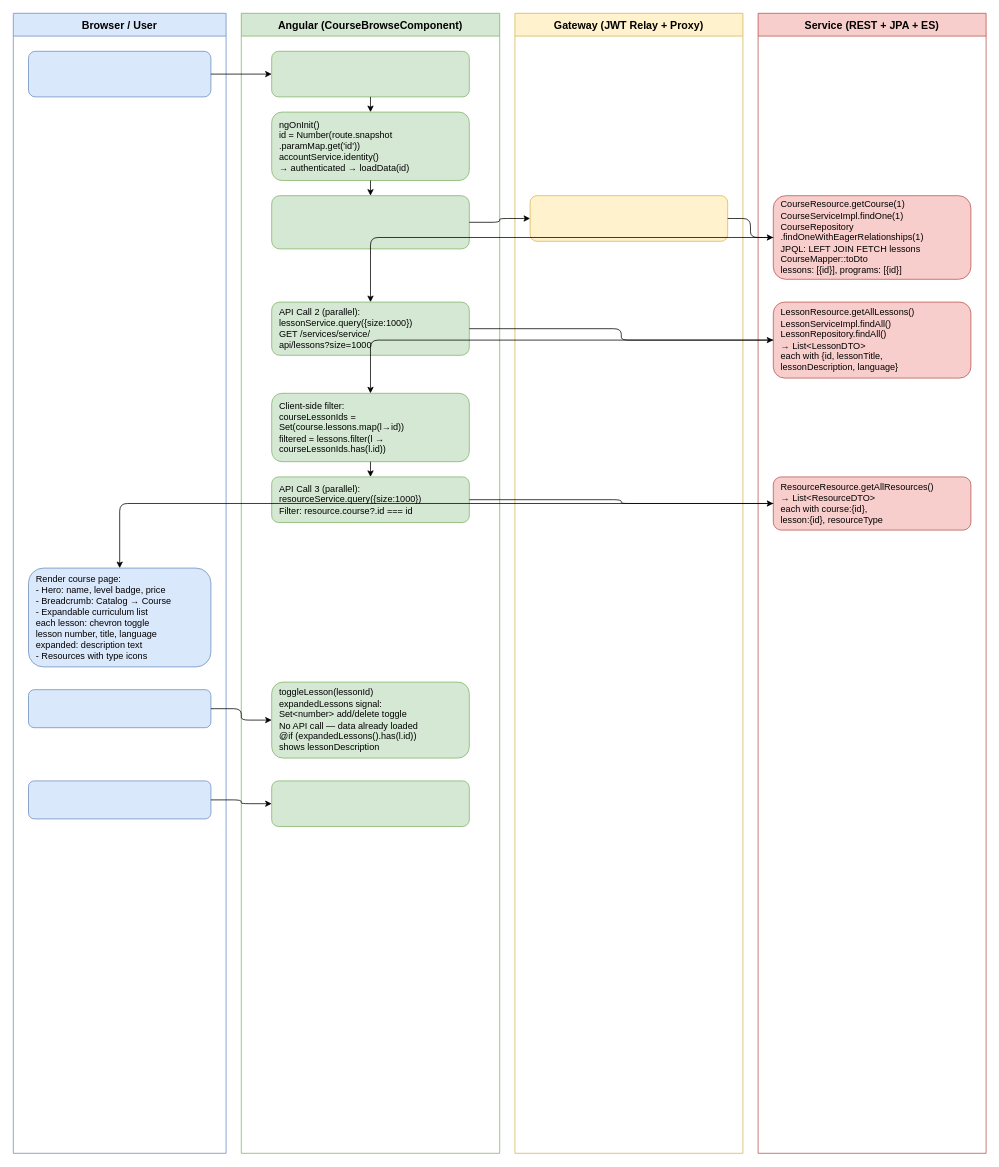
Some shapes in this 999 by 1167 pixel diagram are drawn without their labels. The centre of each missing label's shape, as x and y in pixels:
"API Call 1: courseService.find(id) GET /services/service/ api/courses/1" goes at pixel 370 222.
"JWT validated → relay StripPrefix=2 → /api/courses/1" goes at pixel 628 218.
"Router: browse.routes.ts path: 'course/:id' Lazy-loads CourseBrowseComponent" goes at pixel 370 74.
"routerLink navigates to LessonBrowseComponent (see 06-view-lesson diagram)" goes at pixel 370 803.
"User clicks course card on discipline page → /catalog/course/1" goes at pixel 119 74.
"User clicks lesson row to expand/collapse" goes at pixel 119 708.
"User clicks lesson title link → /catalog/lesson/:id" goes at pixel 119 799.
